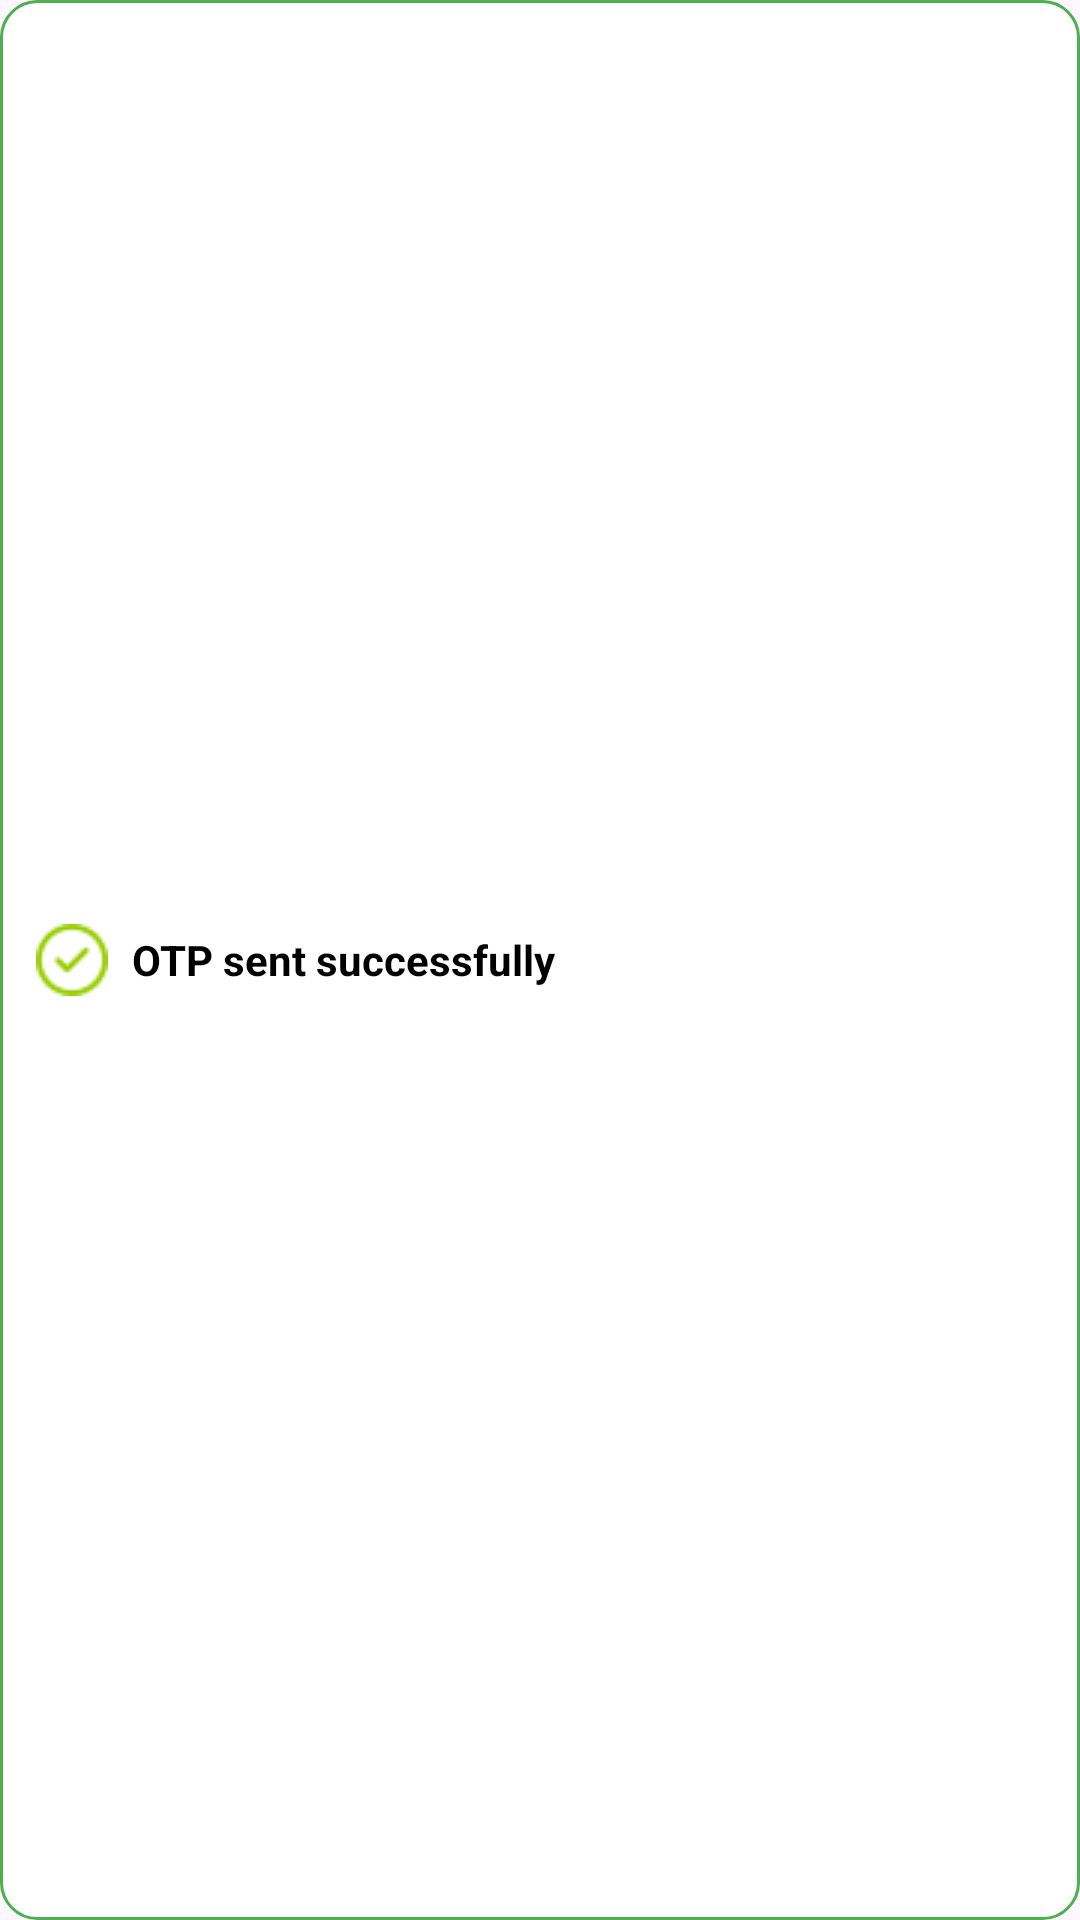

Where icons sit on this 1080*1920 app screen, as [left=x1, top=y1, right=x2, bottom=y2]:
Success icon: [left=36, top=924, right=108, bottom=996]
